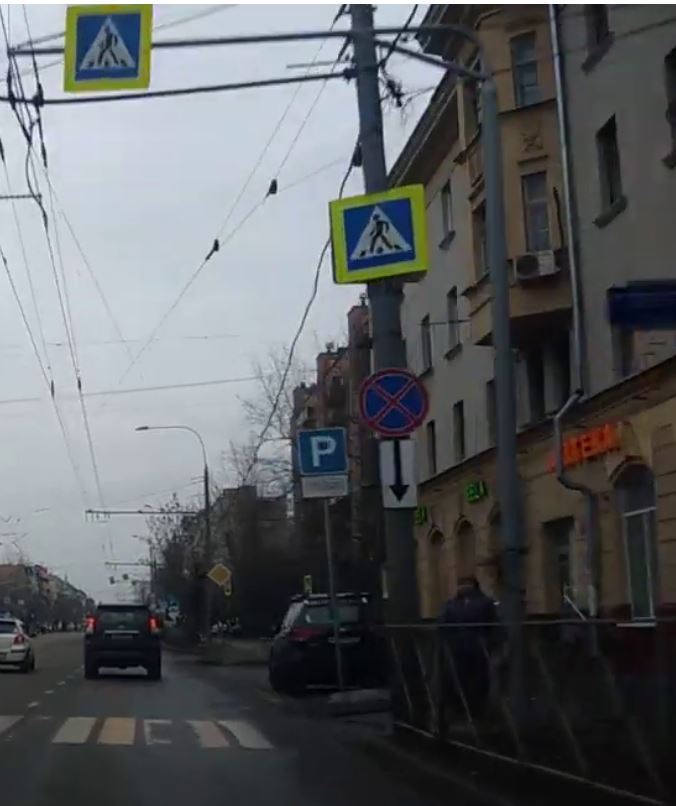Yaya Gecidi: (337, 201, 418, 265), (76, 13, 143, 79)
